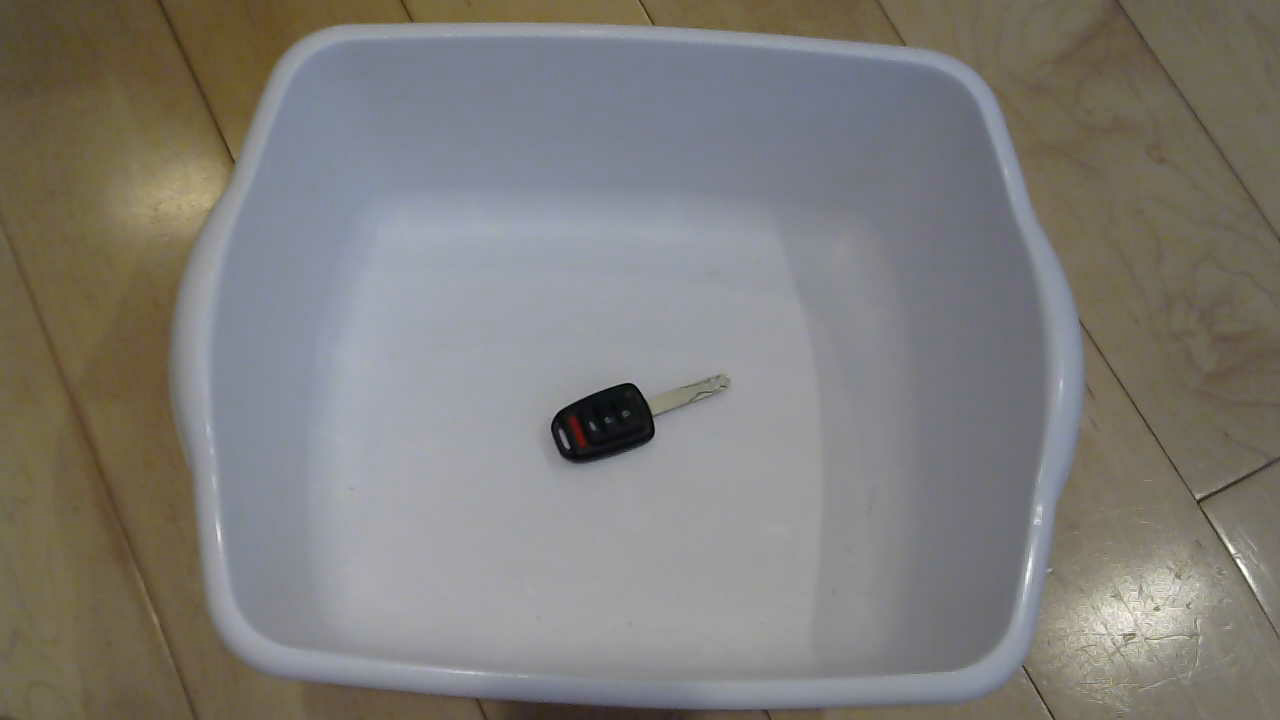key: (550, 357, 741, 480)
